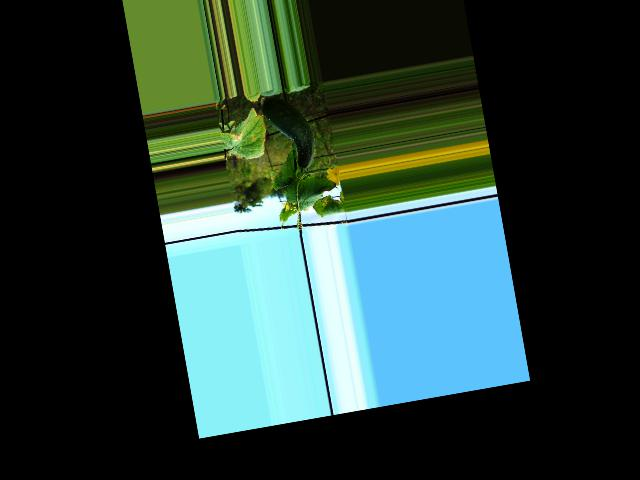cucumber: (259, 91, 319, 175)
